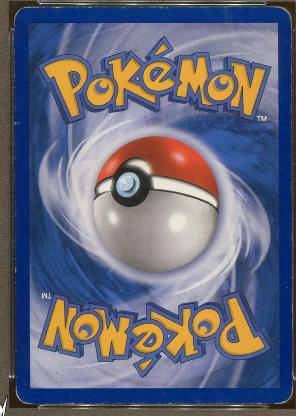Card: (12, 4, 292, 406)
Corner Wear: (13, 4, 58, 28), (263, 5, 291, 29), (14, 382, 40, 404), (272, 380, 292, 405)
Edge Wear: (49, 400, 267, 404), (35, 5, 259, 8), (13, 35, 17, 152), (287, 226, 291, 342), (288, 31, 291, 131), (14, 172, 16, 314), (15, 328, 17, 360)
Scratch: (14, 115, 24, 125), (271, 118, 286, 122), (284, 110, 289, 114)
